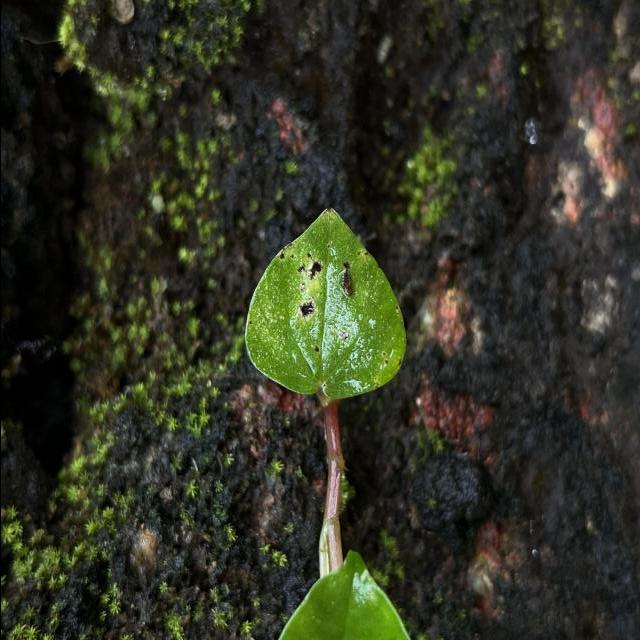Peperomia pellucida: (240, 202, 409, 404)
